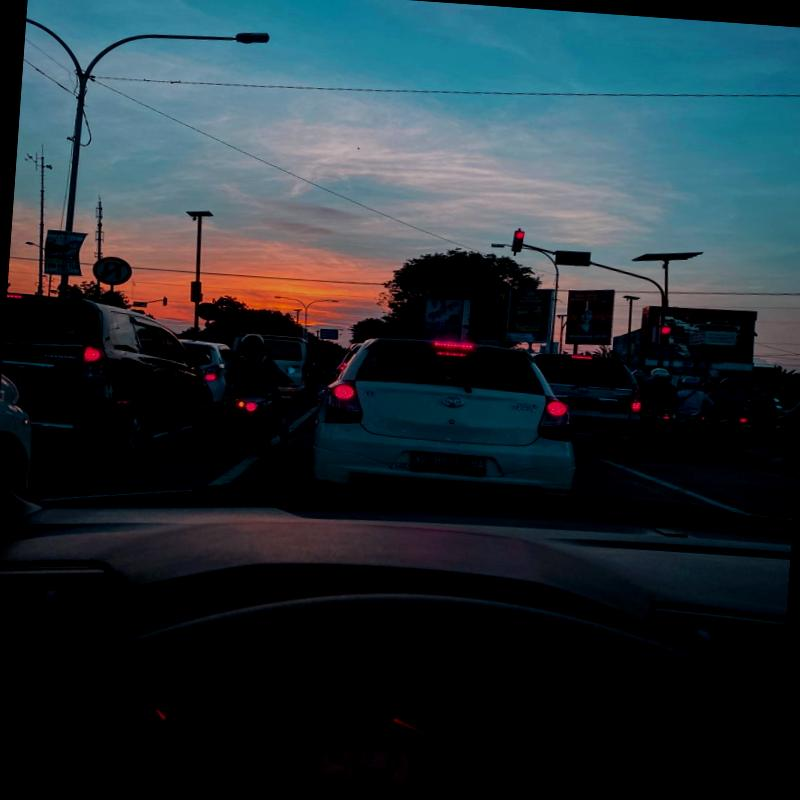license plate on a car: (410, 452, 485, 476), (563, 398, 601, 410), (2, 369, 25, 383)
